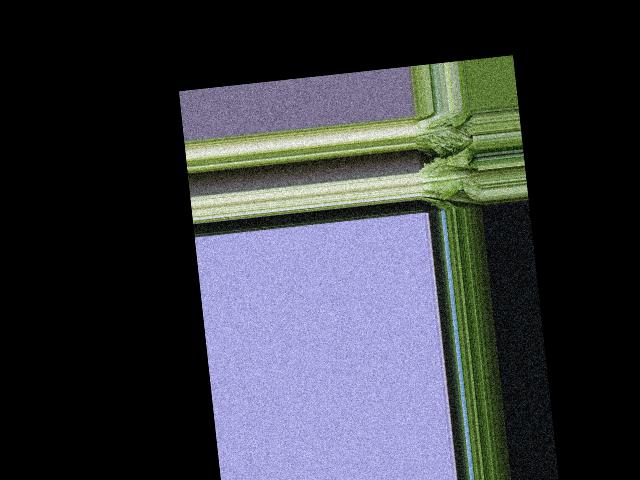lettuce: (412, 110, 473, 156)
